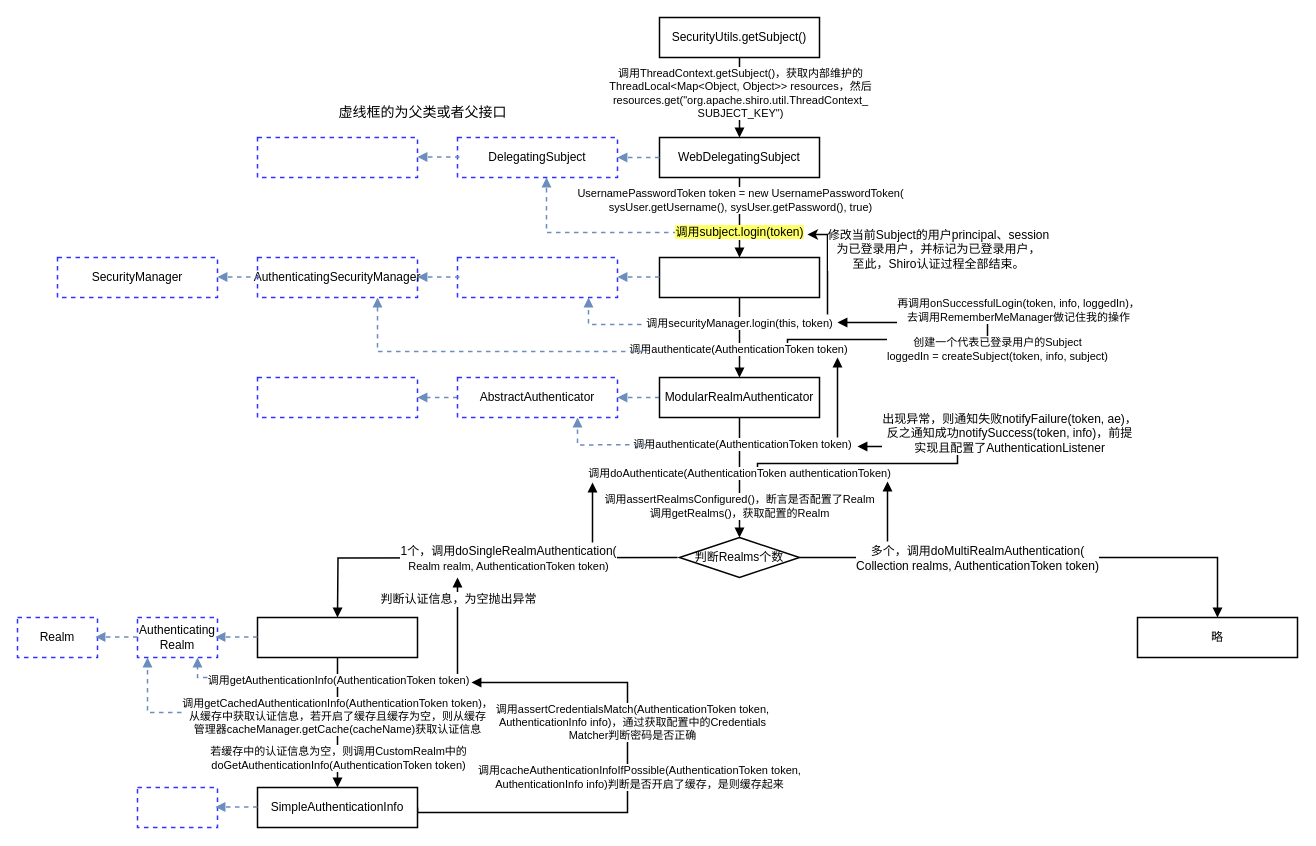
This 1316x846 diagram has some shape labels left out. Here are the shapes that lost their labels. From the top down, the centre of each, then its label:
At (337,157): "Subject".
At (537,277): "DefaultSecurityManager".
At (739,277): "DefaultWebSecurityManager".
At (337,397): "Authenticator".
At (337,637): "自定义的CustomRealm".
At (177,807): "Authentication Info".
